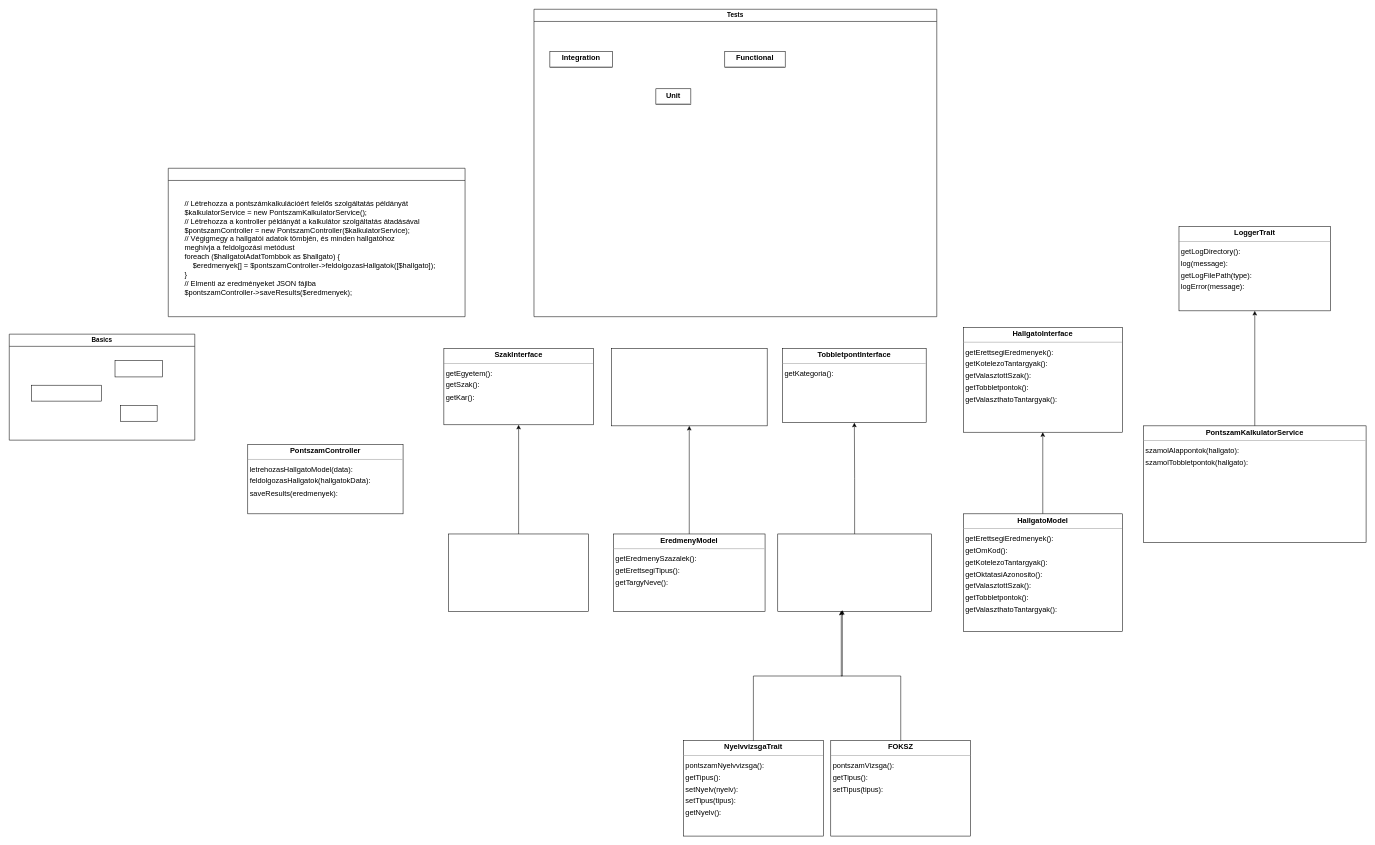
Image size: 1375x845. Some labels were removed from this diagram. Here are the shapes that lost their labels. From the top down, the box of each, then its label:
(168, 168, 465, 317): Index
(114, 360, 163, 377): vendor
(611, 348, 767, 426): EredmenyInterface getEredmenySzazalek(): getErettsegiTipus(): getTargyNeve():
(31, 385, 101, 401): !specifikacio
(120, 405, 157, 421): data
(448, 533, 589, 611): SzakModel getEgyetem(): getSzak(): getKar():
(777, 533, 931, 611): TobbletpontModel getKategoria():
